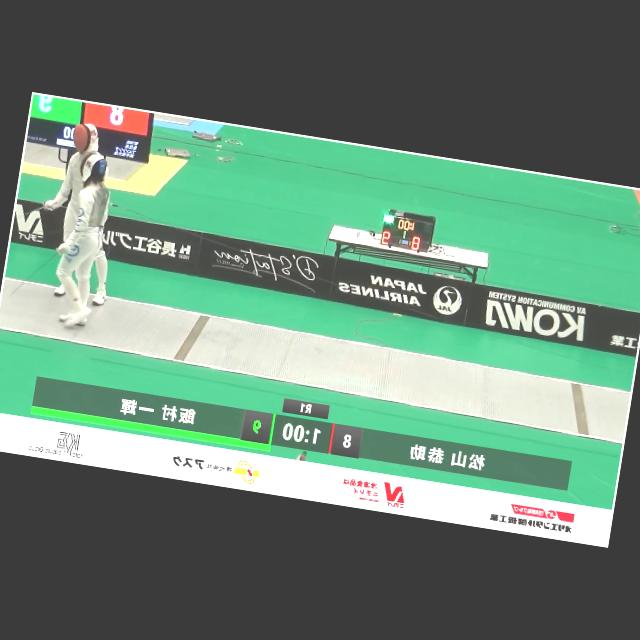blade: (8, 238, 68, 306), (12, 195, 51, 230)
